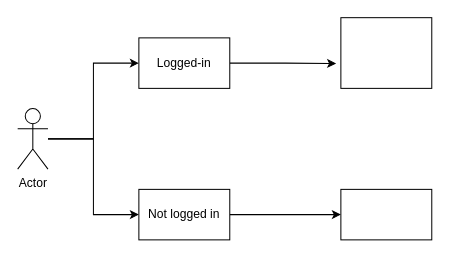
The diagram is 449 pixels wide and 258 high, and some of its shapes have lost their labels. Each missing label, with the centre of its shape:
Data-storage on cloud: the point at 386,52
Temperory-storage: the point at 386,214
